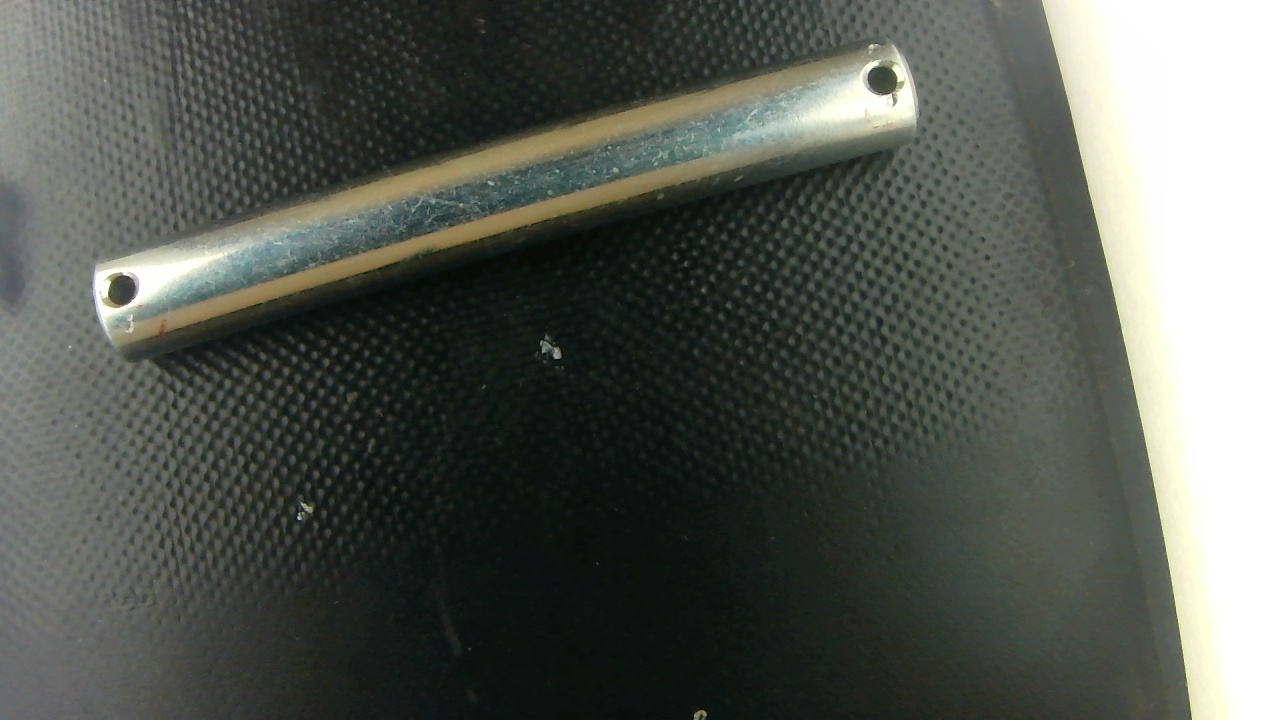drill touch_pin: (119, 308, 144, 339)
